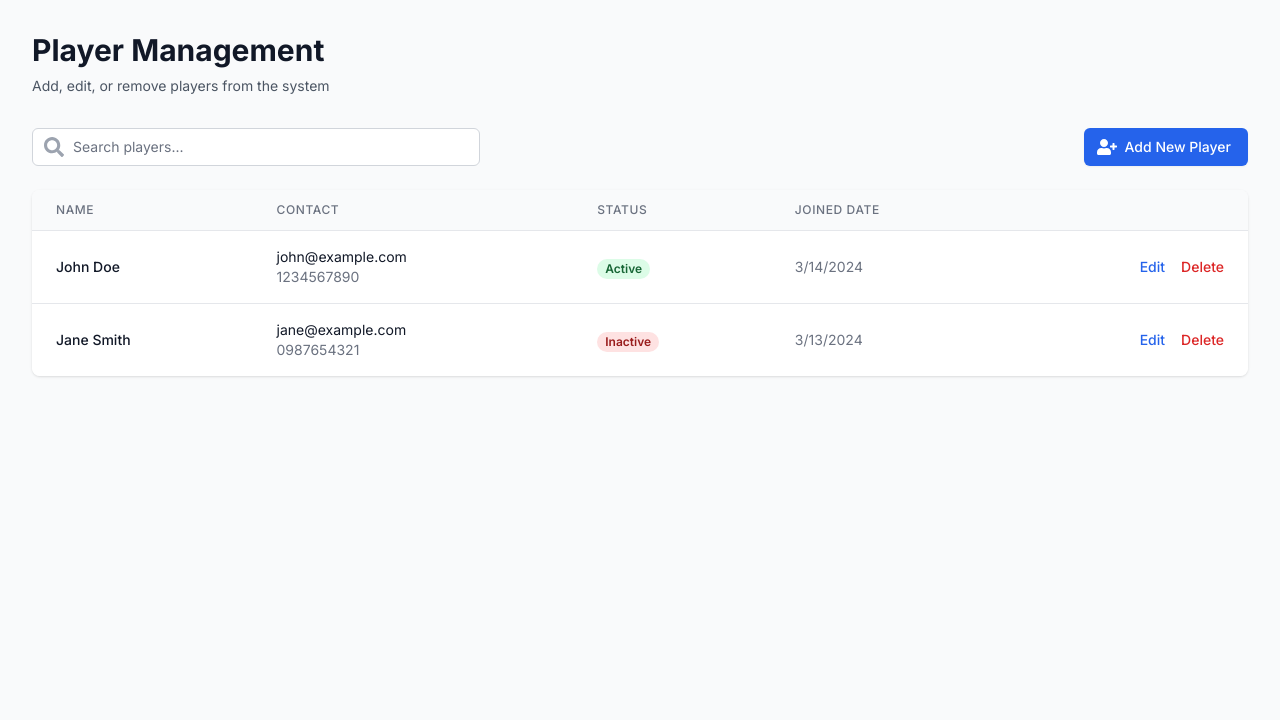
Test case: AdminPage › opens delete confirmation modal when clicking delete button
Click the button "Delete" in the row of "John Doe". click: coordinates (1203, 267)
box: [1181, 257, 1224, 277]
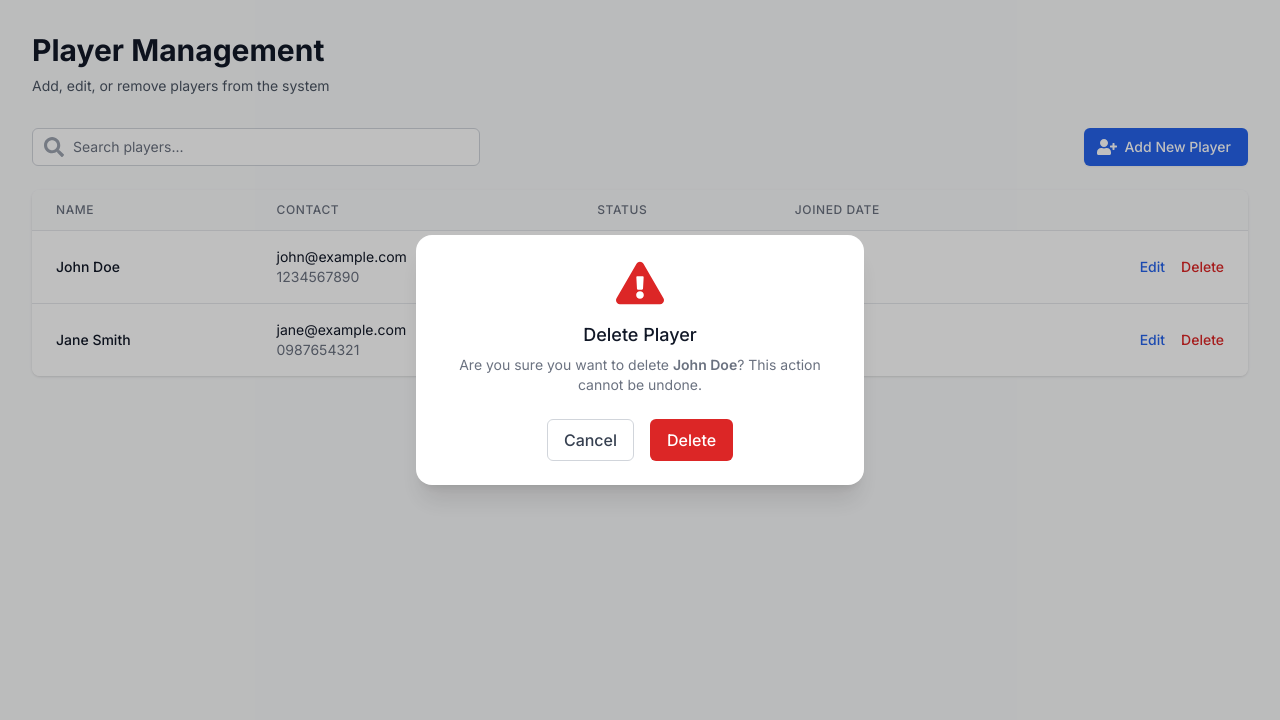
Check: the text "John Doe" next to "john@example.com" is shown, box [56, 258, 120, 275]
Check: the heading "Delete Player" is shown, box [583, 324, 697, 345]
Check: the text "Are you sure" is shown, box [459, 356, 673, 373]
